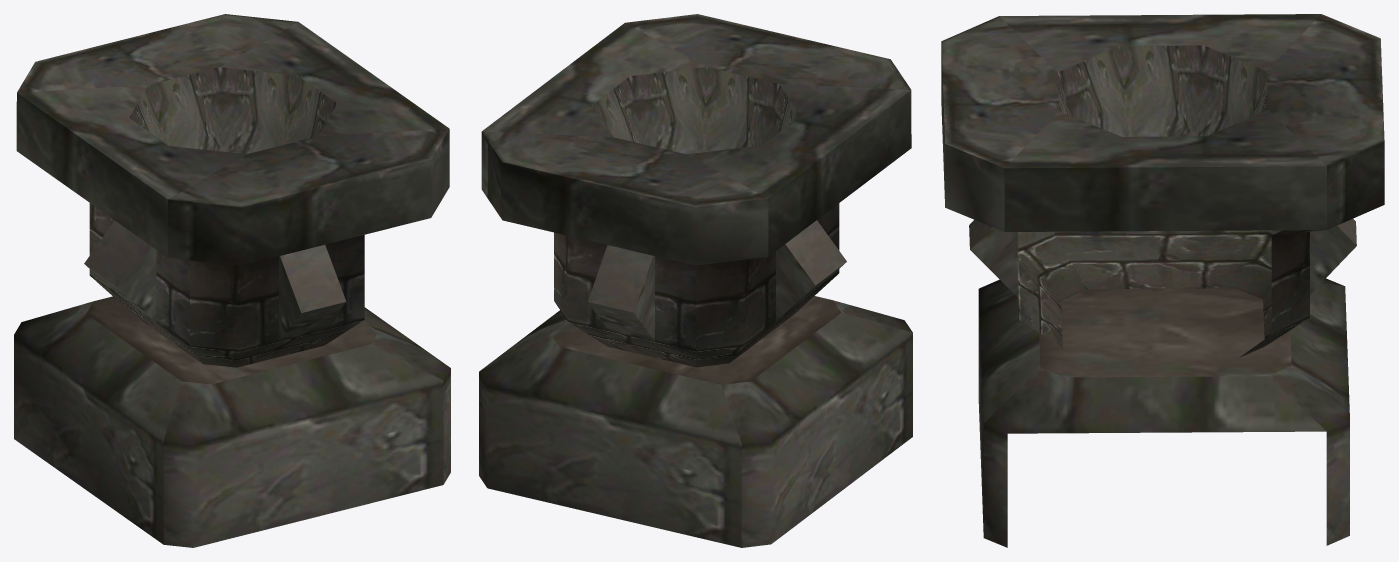
Rendered from h5_building_06.FBX.
3 views of the same model, side by side, from view 1: azimuth 30°, elevation 25°; view 2: azimuth 150°, elevation 25°; view 3: azimuth 270°, elevation 25° (orthographic). The views are drawn at different scales.
Parts seen in each view (by area): view 1: h5_building_06; view 2: h5_building_06; view 3: h5_building_06.
Part boxes in pixels (bbox=[...]): h5_building_06: bbox=[14, 14, 450, 547]; h5_building_06: bbox=[479, 14, 912, 547]; h5_building_06: bbox=[941, 14, 1384, 547].
Size of the model in its own units: 2.59 by 2.91 by 3.09.
